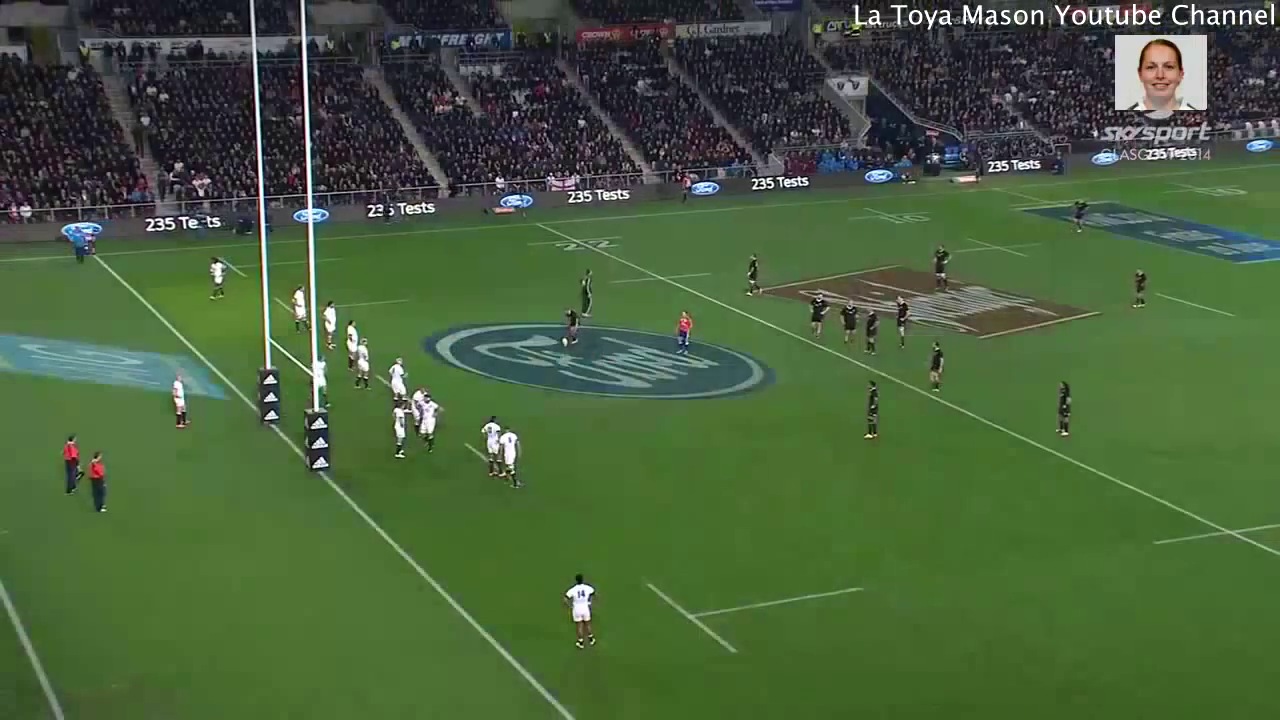10_metre: (946, 228, 1052, 265), (845, 203, 943, 229)
ball: (558, 333, 570, 352)
player: (554, 568, 601, 651), (85, 447, 120, 528), (885, 288, 921, 360), (51, 430, 85, 504), (856, 379, 890, 448), (163, 368, 196, 436), (500, 420, 529, 497), (1051, 374, 1081, 446), (385, 396, 414, 467), (475, 416, 504, 484), (803, 288, 837, 344), (927, 239, 959, 296), (350, 328, 376, 395), (415, 391, 441, 458), (572, 261, 601, 321), (305, 351, 331, 416), (203, 255, 235, 306), (925, 340, 953, 398), (337, 315, 362, 378), (669, 304, 701, 353), (319, 296, 343, 357), (557, 304, 590, 348), (286, 283, 311, 341), (739, 249, 764, 305), (838, 294, 861, 354), (1128, 263, 1153, 316), (861, 303, 883, 360), (389, 353, 410, 405), (1069, 196, 1089, 237), (412, 381, 427, 413)
post: (233, 1, 337, 483)
